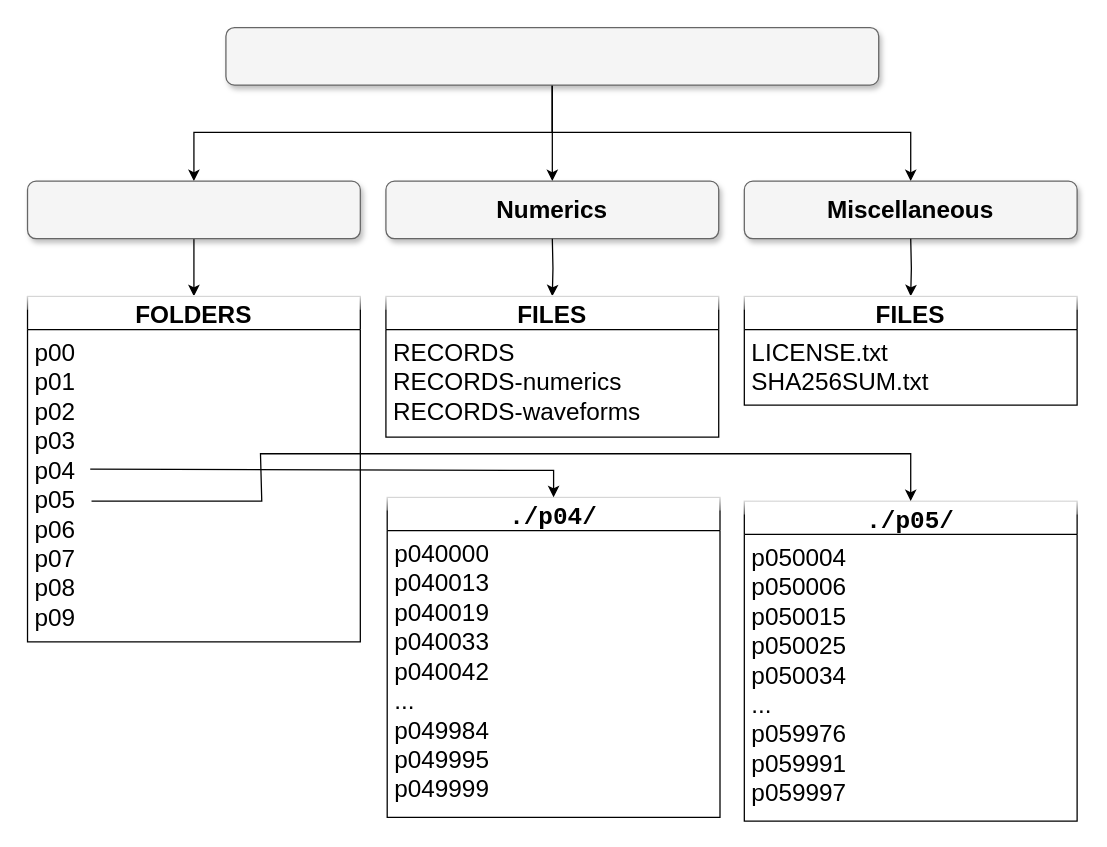
Image size: 1107x847. Some labels were removed from this diagram. Each missing label, with the centre of its shape:
"Matched Waveforms" belongs at point (194, 211).
"MIMIC-III Clinical Database" belongs at point (553, 57).
